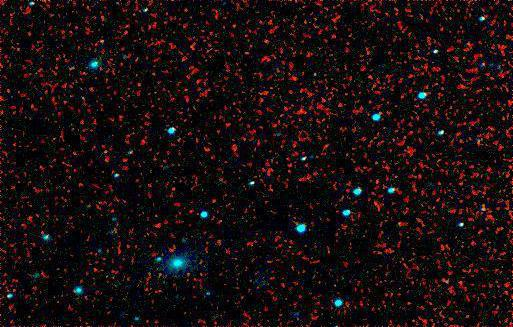star: (91, 136, 121, 166)
